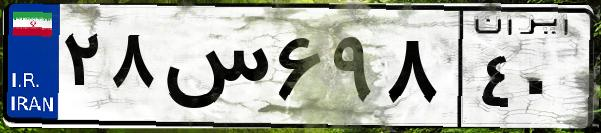0: (525, 38, 570, 115)
2: (57, 26, 110, 100)
4: (475, 38, 525, 113)
6: (270, 28, 330, 110)
8: (385, 28, 445, 110), (110, 28, 158, 98)
9: (330, 28, 385, 110)
س: (158, 20, 270, 120)
